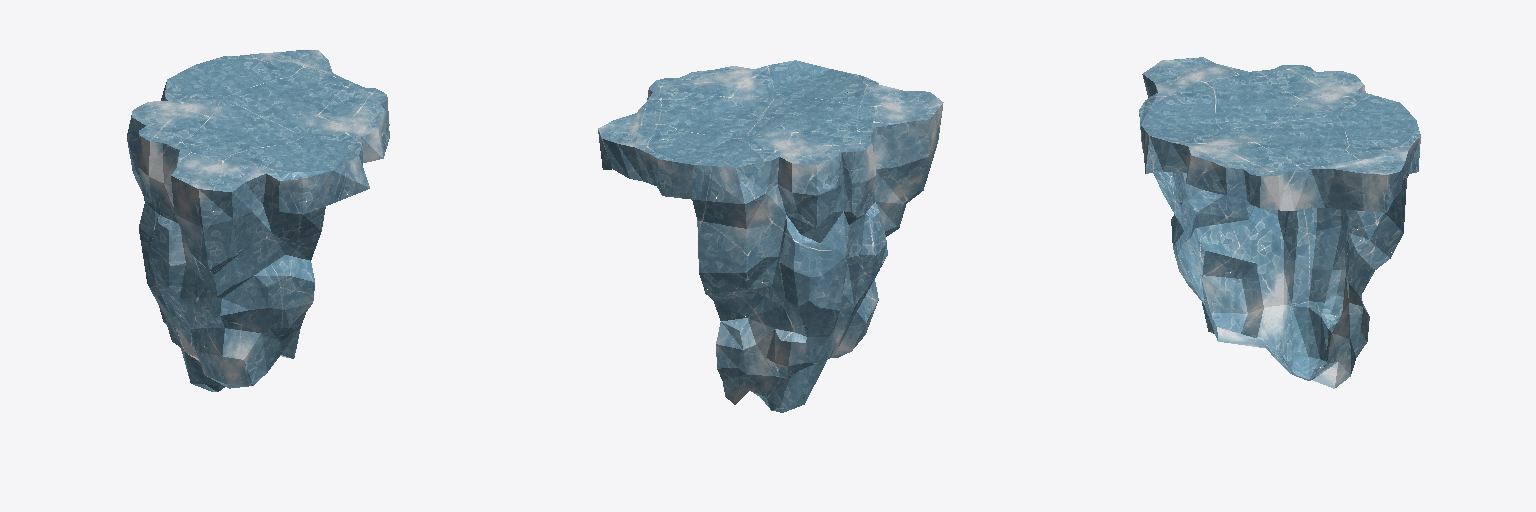
The picture shows the model from 3 angles: view 1: azimuth 30°, elevation 25°; view 2: azimuth 150°, elevation 25°; view 3: azimuth 270°, elevation 25°; orthographic projection.
Visible parts, largest first — view 1: C1SNICECHASMCLAD; view 2: C1SNICECHASMCLAD; view 3: C1SNICECHASMCLAD.
Part boxes in pixels (x1,y1,x2,y2): C1SNICECHASMCLAD: (127,50,389,391); C1SNICECHASMCLAD: (598,60,943,412); C1SNICECHASMCLAD: (1139,57,1420,388).
Size of the model in its own units: 30.96 by 33.42 by 30.65.
Materials: 1 (1 with a texture image).